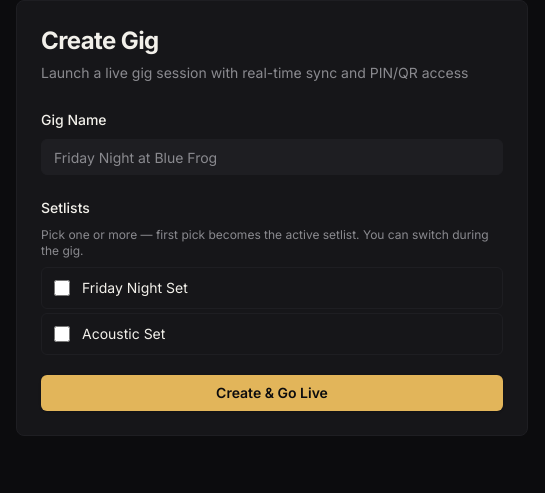
Test case: CreateGigForm › displays error message if gig creation fails
Type "Fail Gig" into the field labelled "Gig Name" at point(272, 157), box [41, 139, 503, 175]
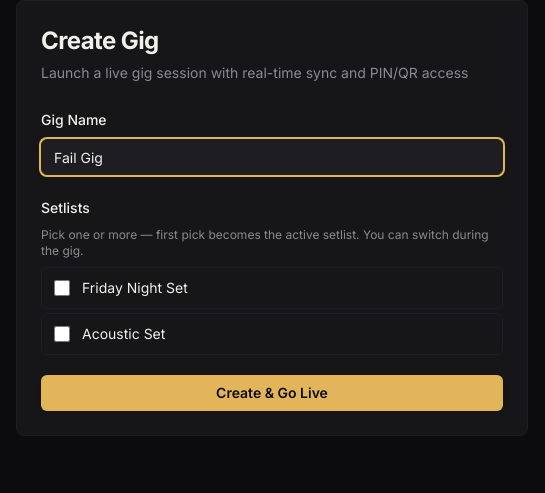
Click the checkbox labelled "Friday Night Set" at point(62, 288), box [54, 280, 70, 296]
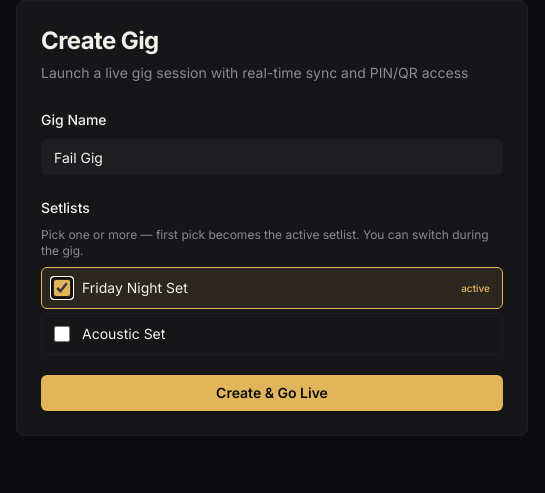
Click the button "Create & Go Live" at point(272, 393), box [41, 375, 503, 411]
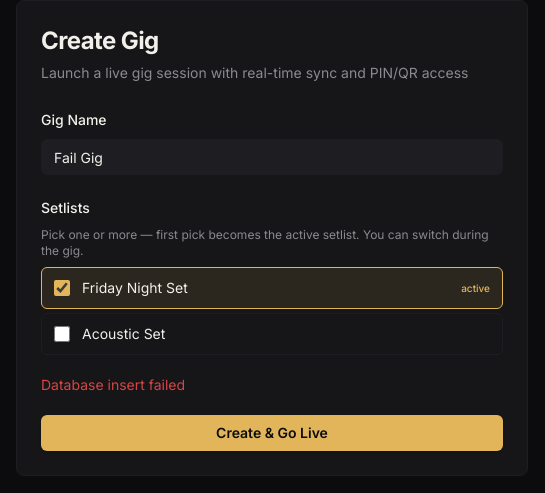
Check: the text "Database insert failed" is shown, box [41, 376, 185, 393]
